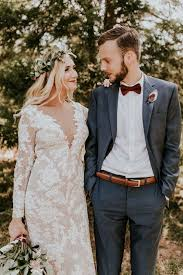F_M_suit jacket: (85, 76, 183, 202)
F_belt: (90, 165, 166, 193)
F_dress pants: (88, 179, 165, 275)
